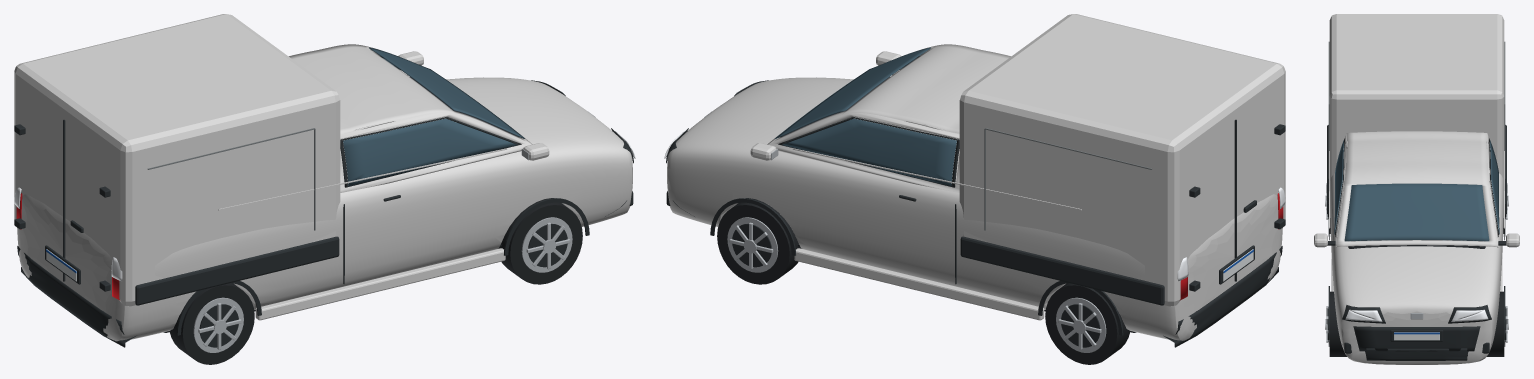
File: fiat-fiorino.glb
3 renders of one model, left to right at view 1: azimuth 30°, elevation 25°; view 2: azimuth 150°, elevation 25°; view 3: azimuth 270°, elevation 25°, orthographic. The views are drawn at different scales.
Parts seen in each view (by area): view 1: FleetBody, FleetTrim, FleetGlass, FleetRubber, FleetLights; view 2: FleetBody, FleetTrim, FleetGlass, FleetRubber, FleetLights; view 3: FleetBody, FleetGlass, FleetTrim, FleetRubber, FleetLights, FleetInterior.
Part boxes in pixels (<box>): FleetBody: <box>14,14,632,341</box>; FleetTrim: <box>14,56,633,352</box>; FleetGlass: <box>343,47,524,186</box>; FleetRubber: <box>169,198,582,364</box>; FleetLights: <box>14,82,635,300</box>; FleetBody: <box>667,14,1285,340</box>; FleetTrim: <box>666,56,1285,352</box>; FleetGlass: <box>775,47,956,186</box>; FleetRubber: <box>717,198,1130,364</box>; FleetLights: <box>664,82,1285,300</box>; FleetBody: <box>1314,14,1519,364</box>; FleetGlass: <box>1334,140,1499,241</box>; FleetTrim: <box>1316,41,1517,360</box>; FleetRubber: <box>1329,218,1504,356</box>; FleetLights: <box>1345,309,1488,340</box>; FleetInterior: <box>1348,240,1485,248</box>.
Bounding box in the file's own units: 4.41 × 1.9 × 1.92.
